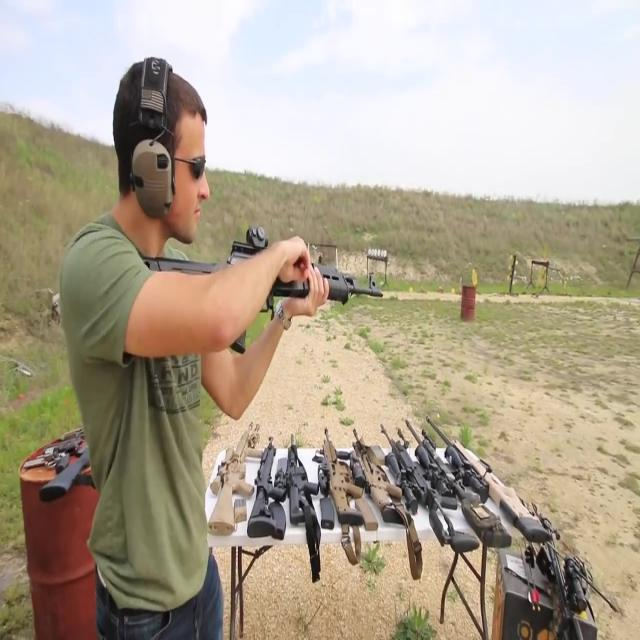Weapon: (187, 401, 640, 630), (118, 212, 406, 356), (0, 362, 138, 531)
